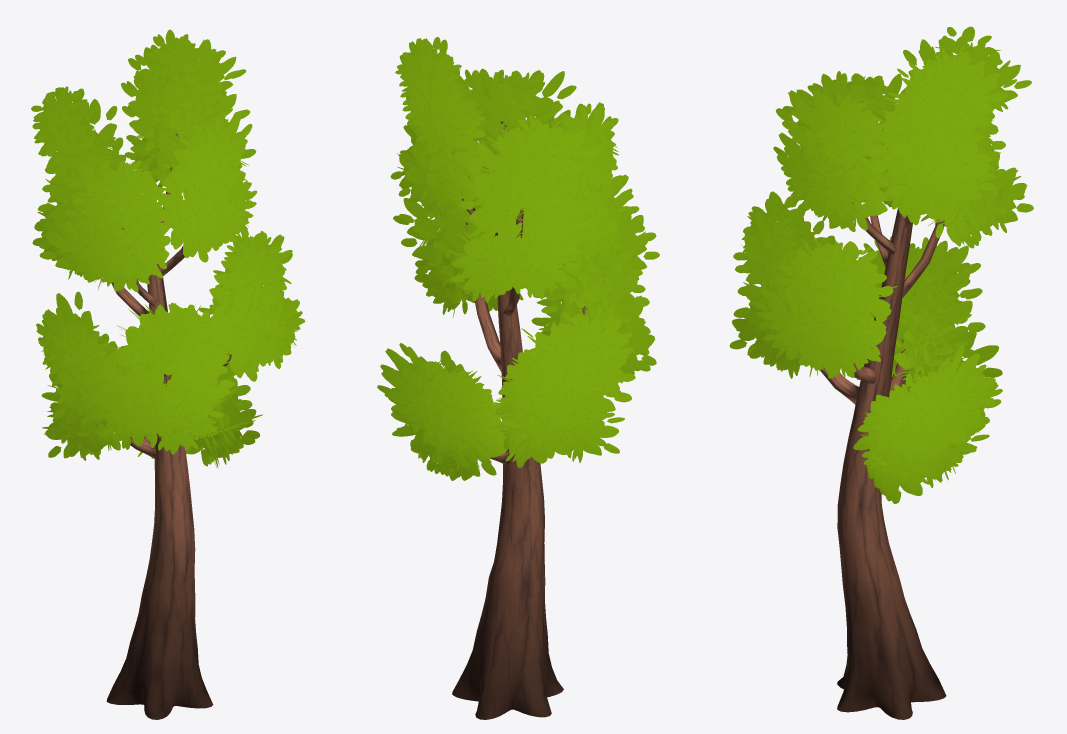
The model's file is CommonTree_3.glb.
The picture shows the model from 3 angles, left to right: view 1: azimuth 30°, elevation 25°; view 2: azimuth 150°, elevation 25°; view 3: azimuth 270°, elevation 25°; orthographic projection. The views are drawn at different scales.
Visible parts, largest first — view 1: CommonTree_3; view 2: CommonTree_3; view 3: CommonTree_3.
Boxes of the visible parts, x1,y1,x2,y2 form: CommonTree_3: (31,29,305,719); CommonTree_3: (377,37,659,719); CommonTree_3: (729,26,1033,719).
Size of the model in its own units: 4.06 by 9.43 by 4.24.
Materials: 2 (2 with a texture image).
